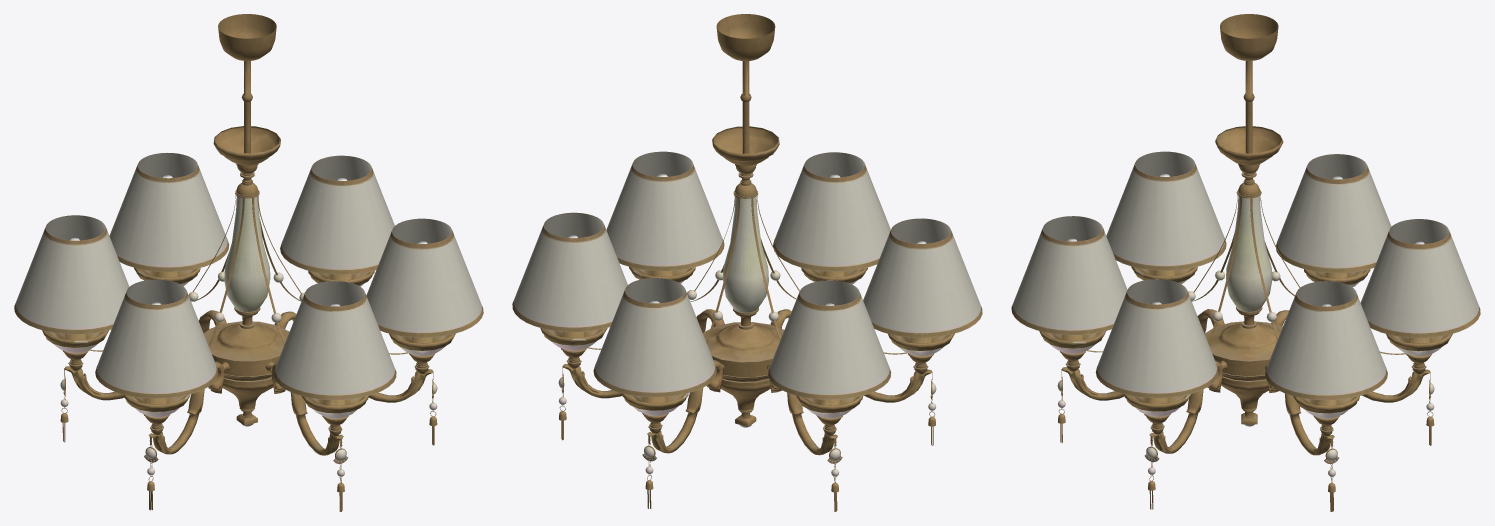
Rendered from chandelier_01_4k.glb.
3 views of the same model, side by side, from view 1: azimuth 30°, elevation 25°; view 2: azimuth 150°, elevation 25°; view 3: azimuth 270°, elevation 25° (orthographic).
Parts seen in each view (by area): view 1: Chandelier_01; view 2: Chandelier_01; view 3: Chandelier_01.
Boxes of the visible parts, x1,y1,x2,y2 form: Chandelier_01: (14, 14, 483, 511); Chandelier_01: (512, 14, 982, 511); Chandelier_01: (1011, 14, 1480, 511).
Bounding box in the file's own units: 0.7465 × 0.7983 × 0.8155.
2 materials, 1 textured.
